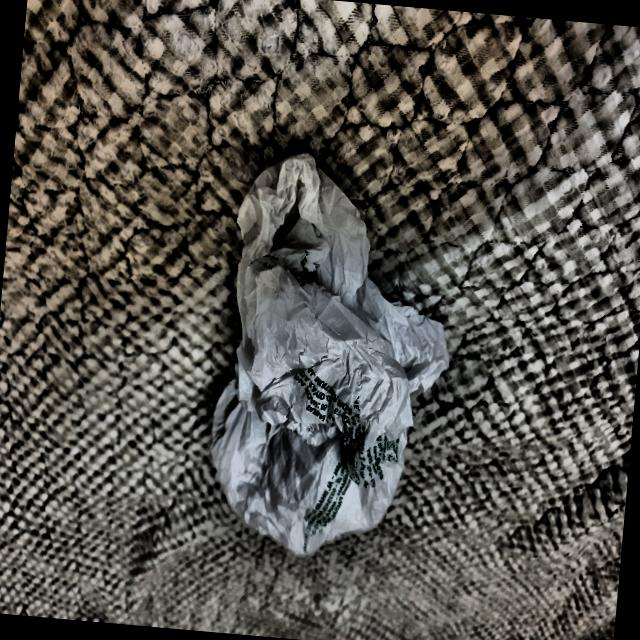plastic bag: (181, 140, 479, 570)
